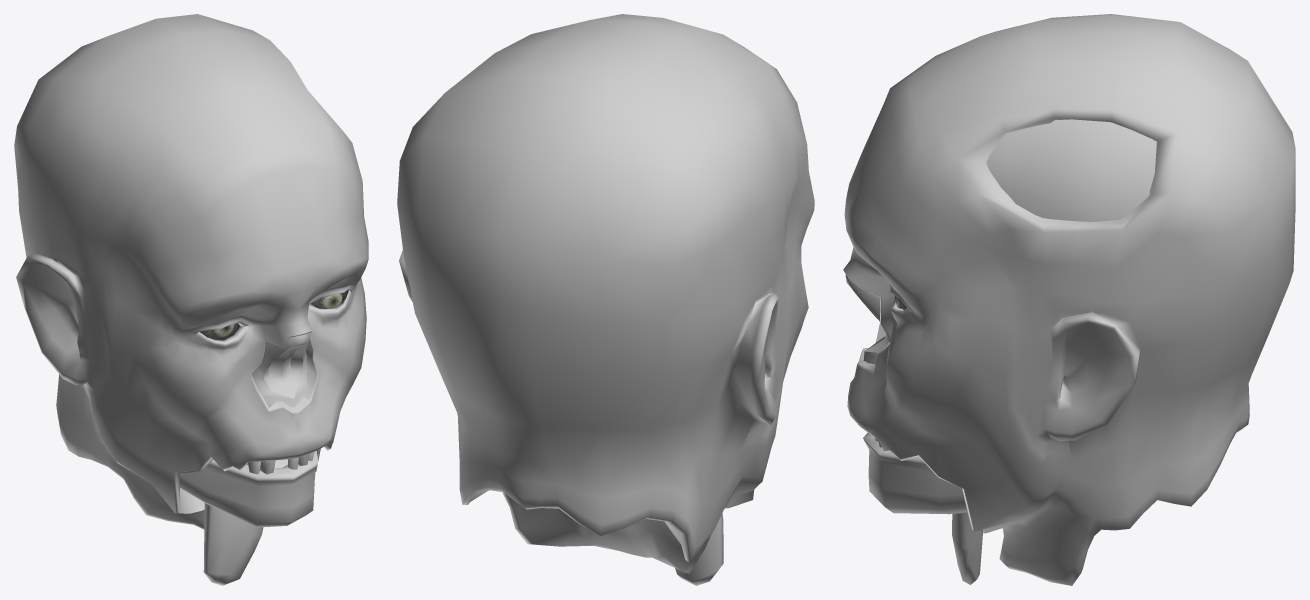
The model's file is Head_Only_01.fbx.
The picture shows the model from 3 angles, left to right: view 1: azimuth 30°, elevation 25°; view 2: azimuth 150°, elevation 25°; view 3: azimuth 270°, elevation 25°; orthographic projection. The views are drawn at different scales.
Visible parts, largest first — view 1: Head_Only_01, Jaw_Bone, TongueHang; view 2: Head_Only_01, TongueHang; view 3: Head_Only_01, Jaw_Bone, TongueHang.
Part boxes in pixels (box(x1,y1,x2,y2)): Head_Only_01: box(14, 14, 368, 529); Jaw_Bone: box(179, 450, 318, 527); TongueHang: box(203, 503, 263, 585); Head_Only_01: box(397, 14, 814, 573); TongueHang: box(675, 513, 723, 585); Head_Only_01: box(843, 14, 1295, 585); Jaw_Bone: box(863, 432, 967, 514); TongueHang: box(952, 512, 983, 584).
Size of the model in its own units: 17.79 by 27.36 by 19.98.
